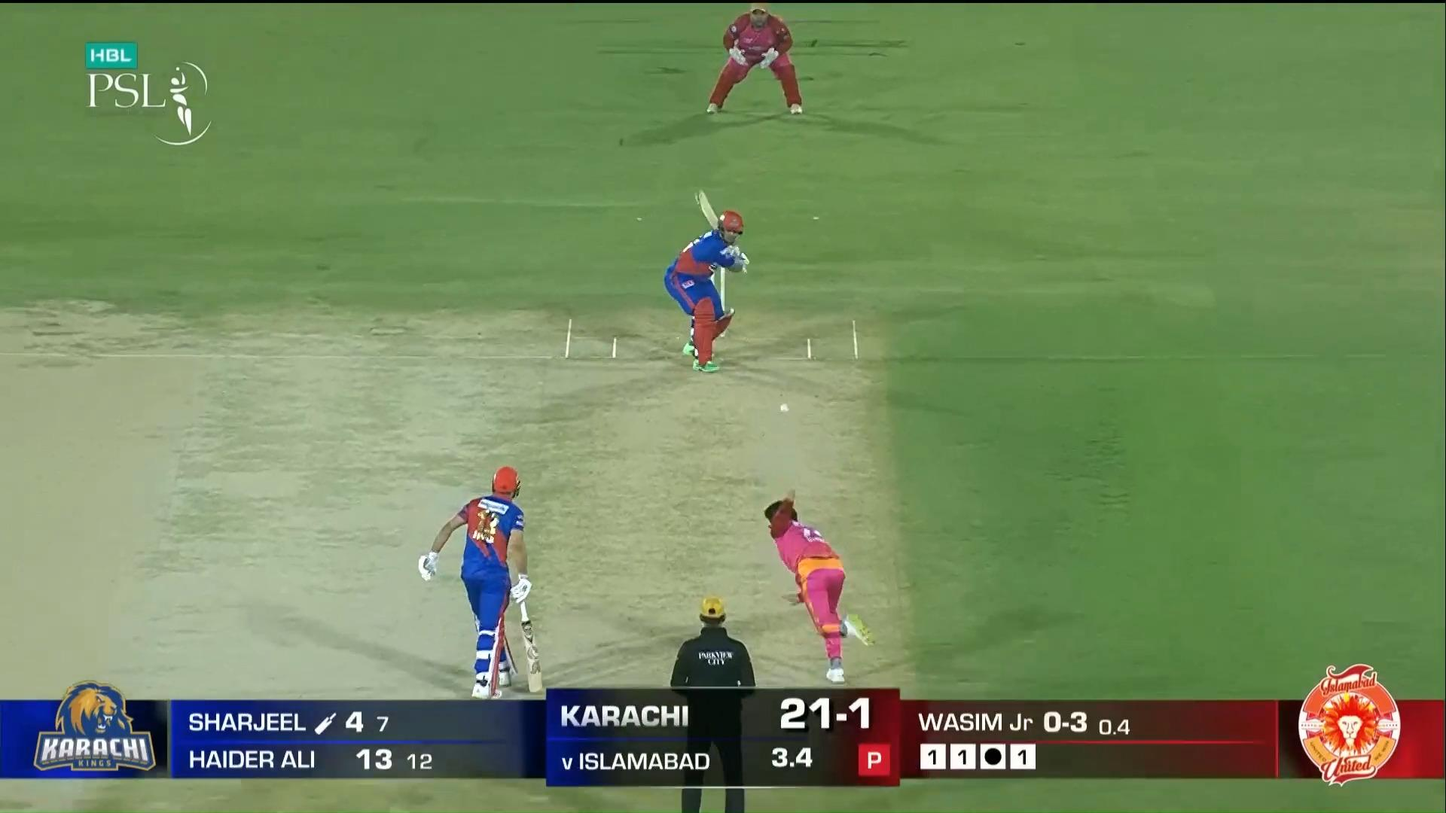batsman: (664, 190, 749, 373)
